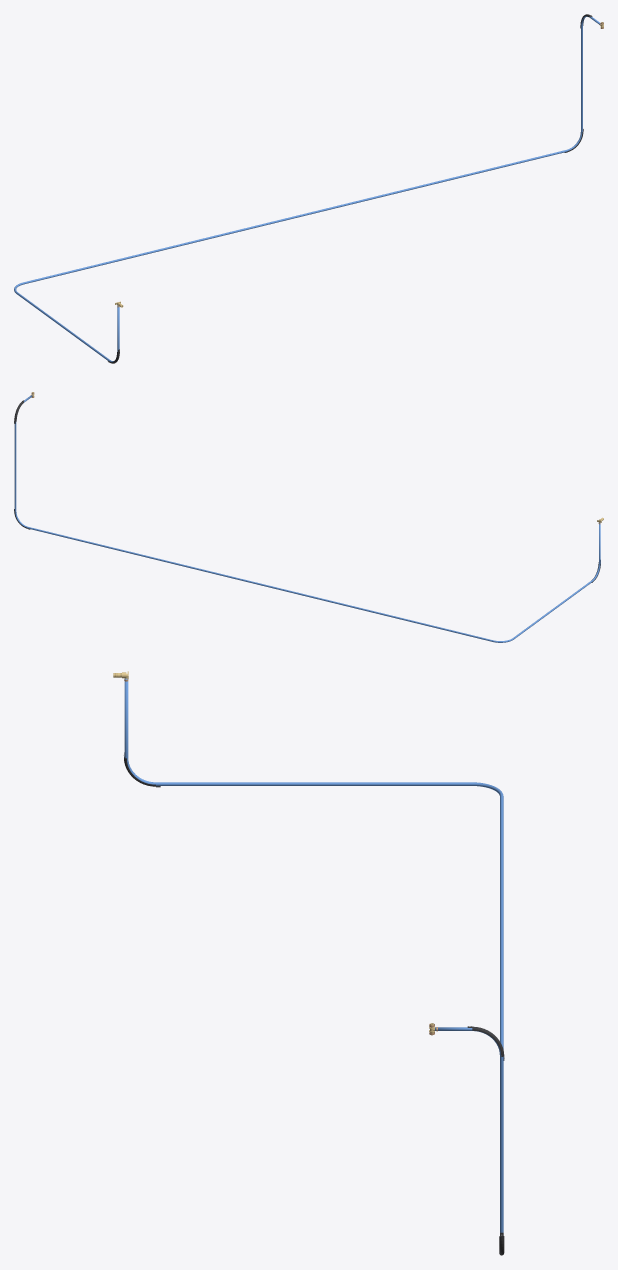
File: slab_pipes_supply__water-well_and_plumbing-pex.glb
The picture shows the model from 3 angles, top to bottom: view 1: azimuth 30°, elevation 25°; view 2: azimuth 150°, elevation 25°; view 3: azimuth 270°, elevation 25°; orthographic projection. The views are drawn at different scales.
Visible parts, largest first — view 1: pipe_supply_branch_hosebib_front_well__pex; view 2: pipe_supply_branch_hosebib_front_well__pex; view 3: pipe_supply_branch_hosebib_front_well__pex.
Boxes of the visible parts, x1,y1,x2,y2 form: pipe_supply_branch_hosebib_front_well__pex: (14,16,600,362); pipe_supply_branch_hosebib_front_well__pex: (14,395,600,642); pipe_supply_branch_hosebib_front_well__pex: (124,678,503,1232).
Size of the model in its own units: 4.91 by 1.15 by 1.69.
